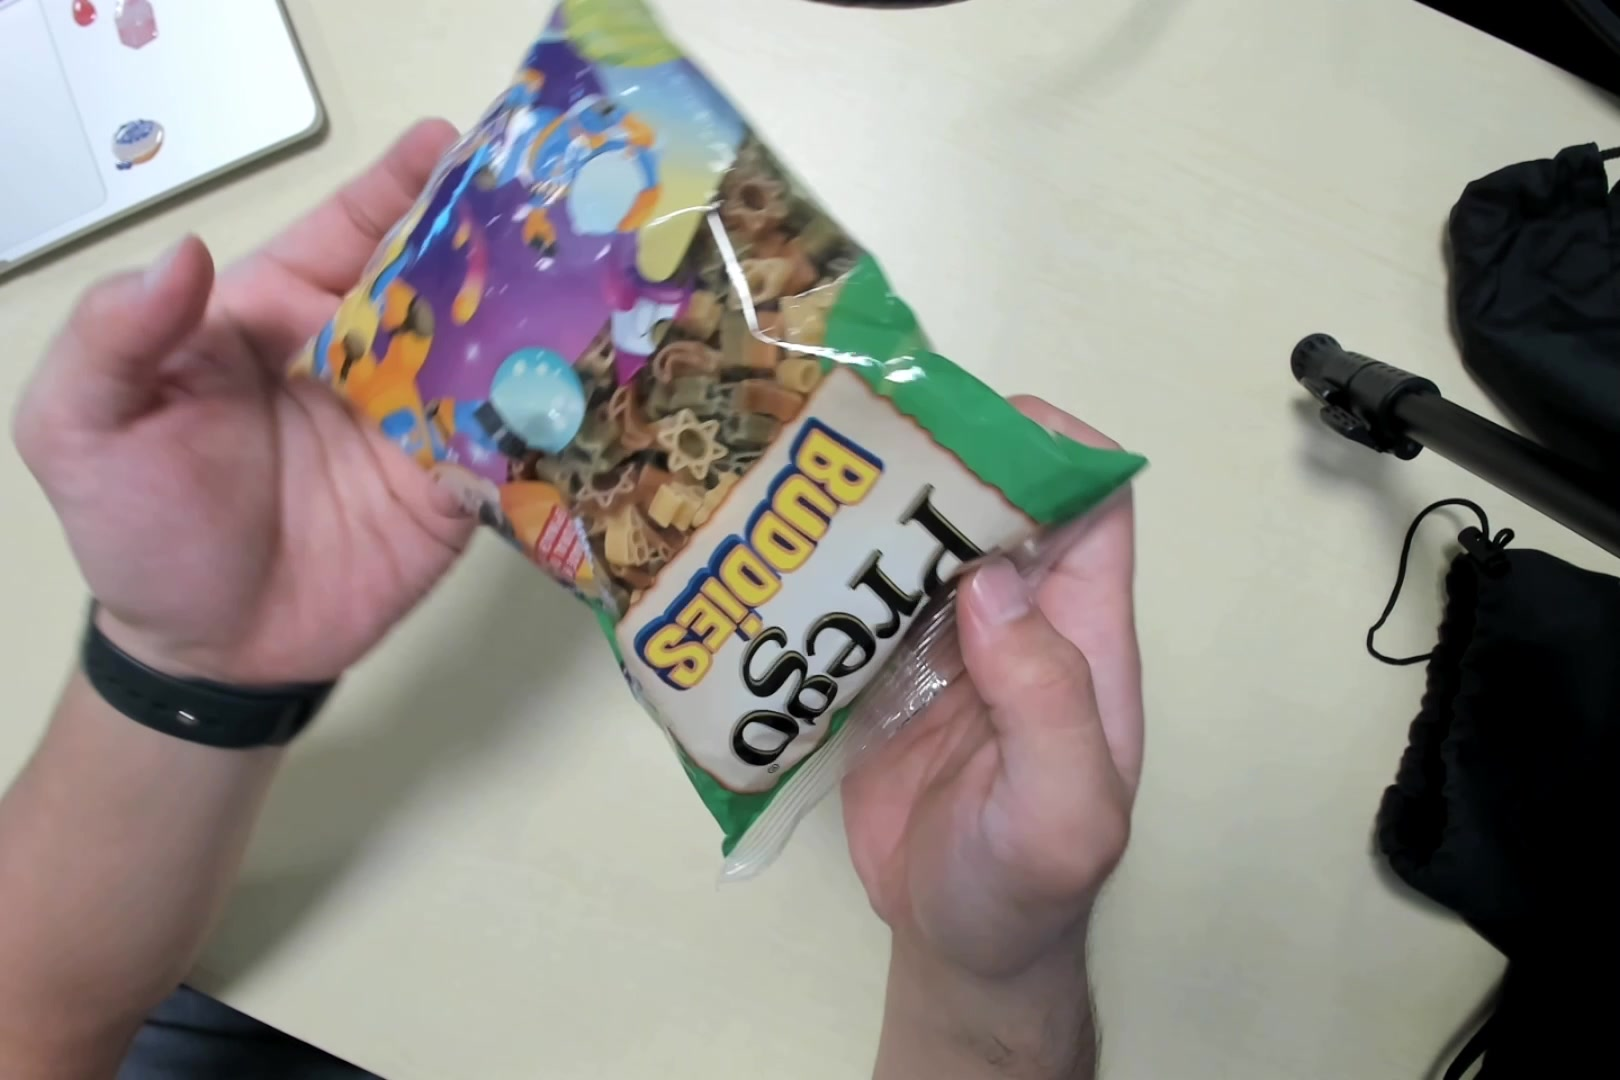Pasta_200-299g_Halal_NonHealthy: (315, 6, 1125, 864)
